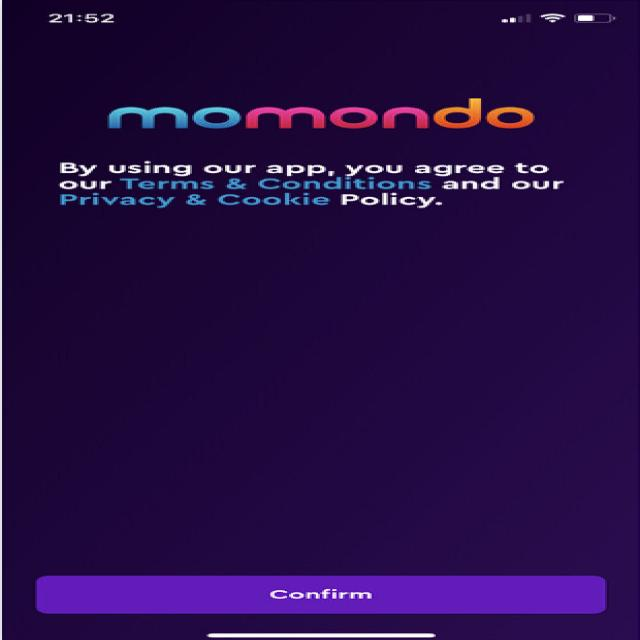button: (15, 568, 625, 626)
spacer: (18, 210, 618, 555)
text: (9, 89, 632, 206)
